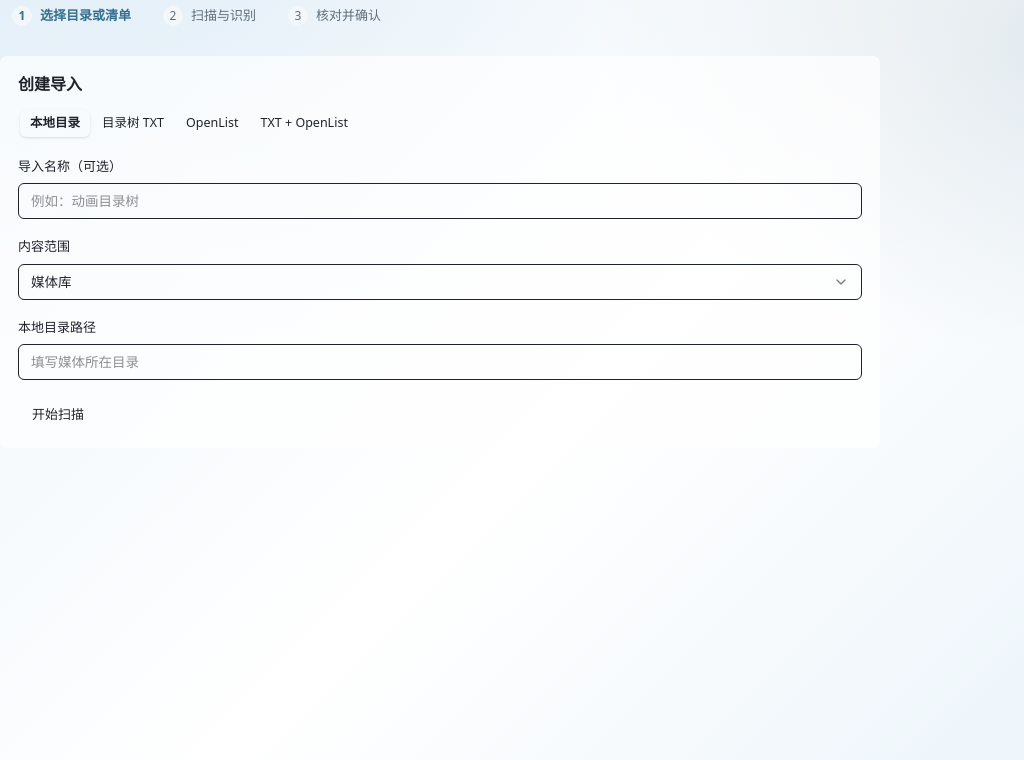
Test case: TXT 路径多解的映射选择（F8） › 第二次仍要求映射时保留最新候选并提示过期，不自动重发
Click the radio button labelled "目录树 TXT".
click(133, 123)  # box [92, 110, 174, 137]
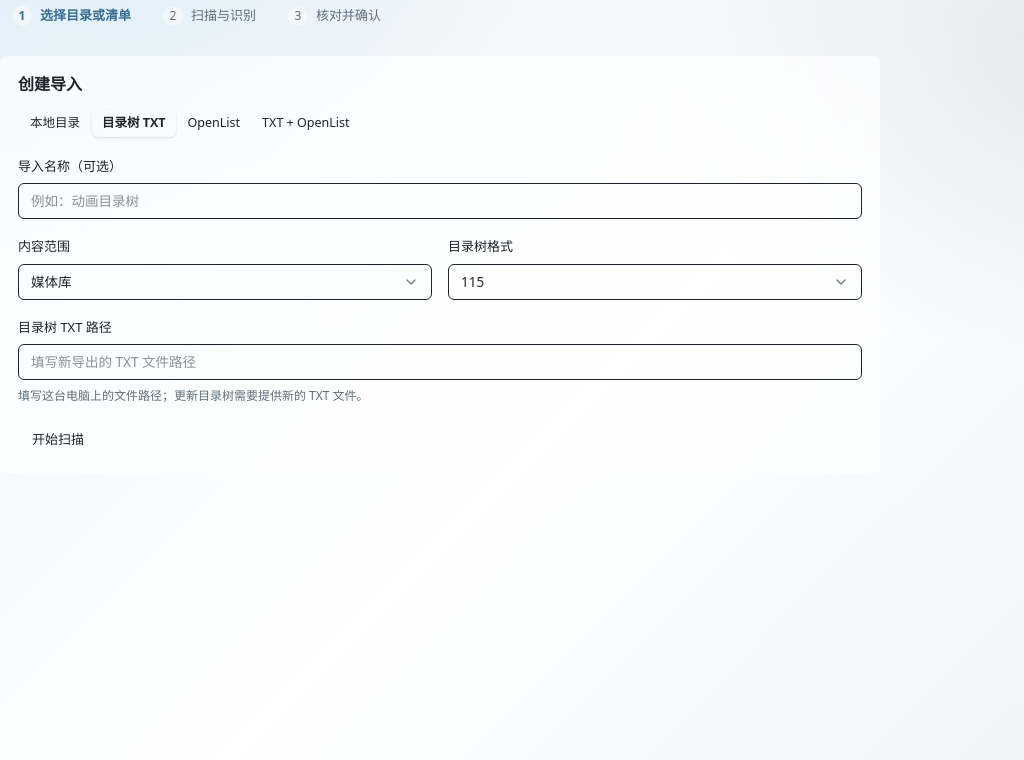
Type "D:\\Trees\\115-anime.txt" into the field labelled "目录树 TXT 路径".
click(440, 362); type("D:\\Trees\\115-anime.txt")  # box [18, 344, 862, 380]
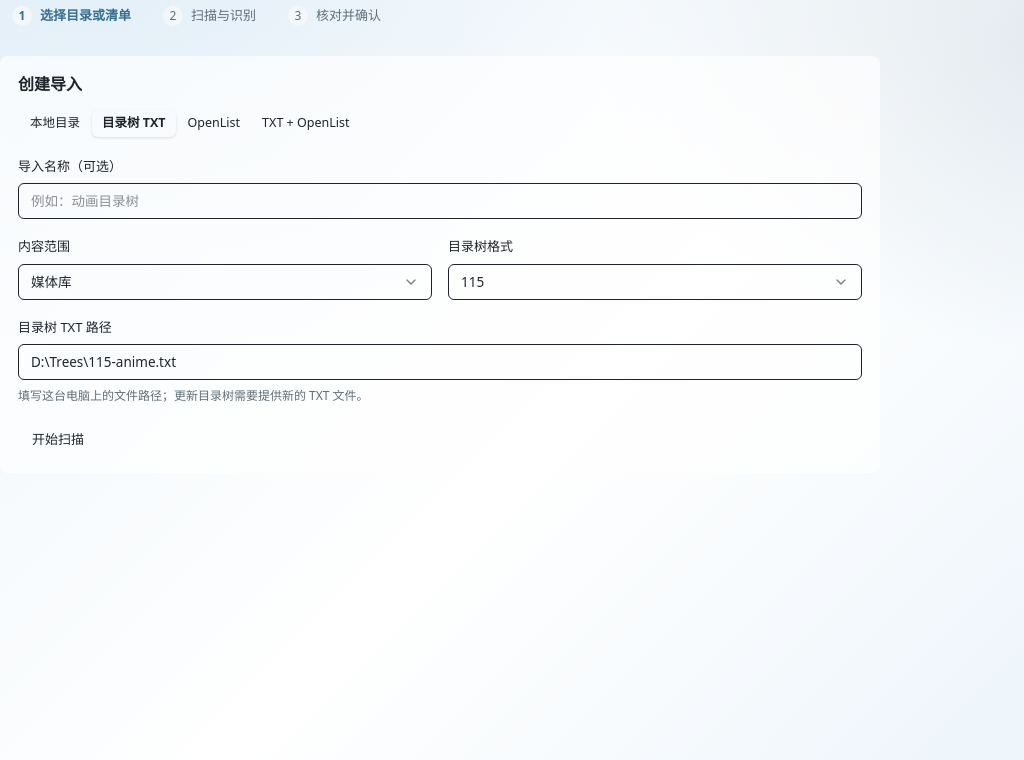
Click the button "开始扫描".
click(58, 439)  # box [18, 421, 98, 457]
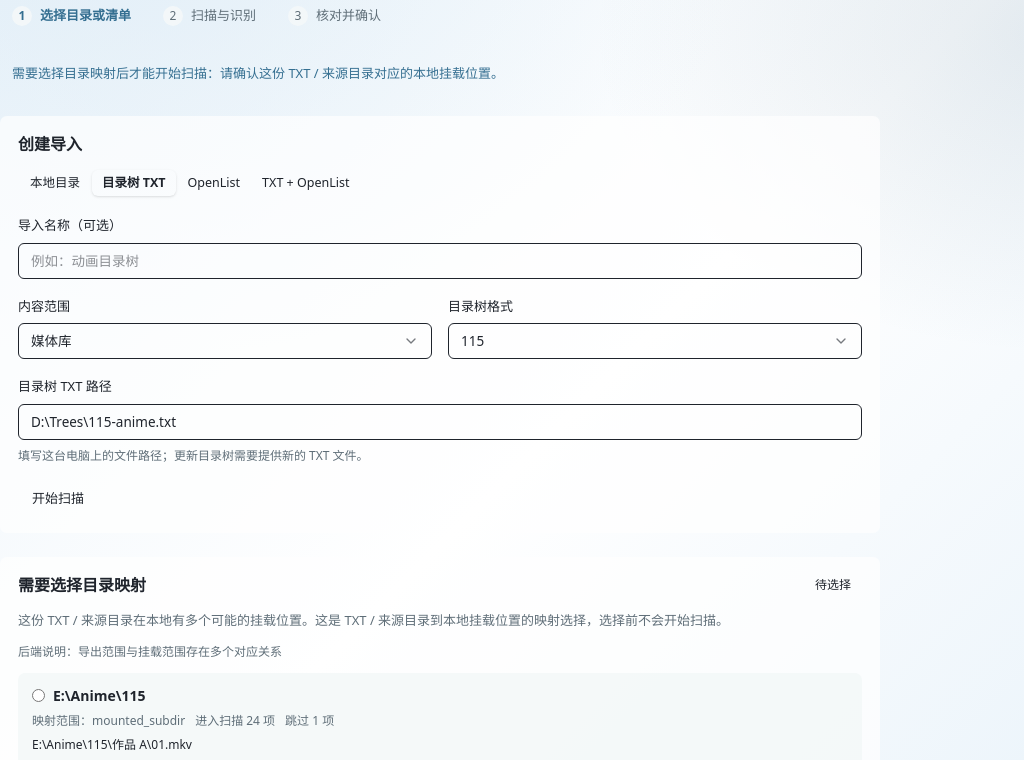
Click the radio button labelled "E:\\Anime\\115".
click(38, 695)  # box [32, 689, 45, 702]
(page scrolled)
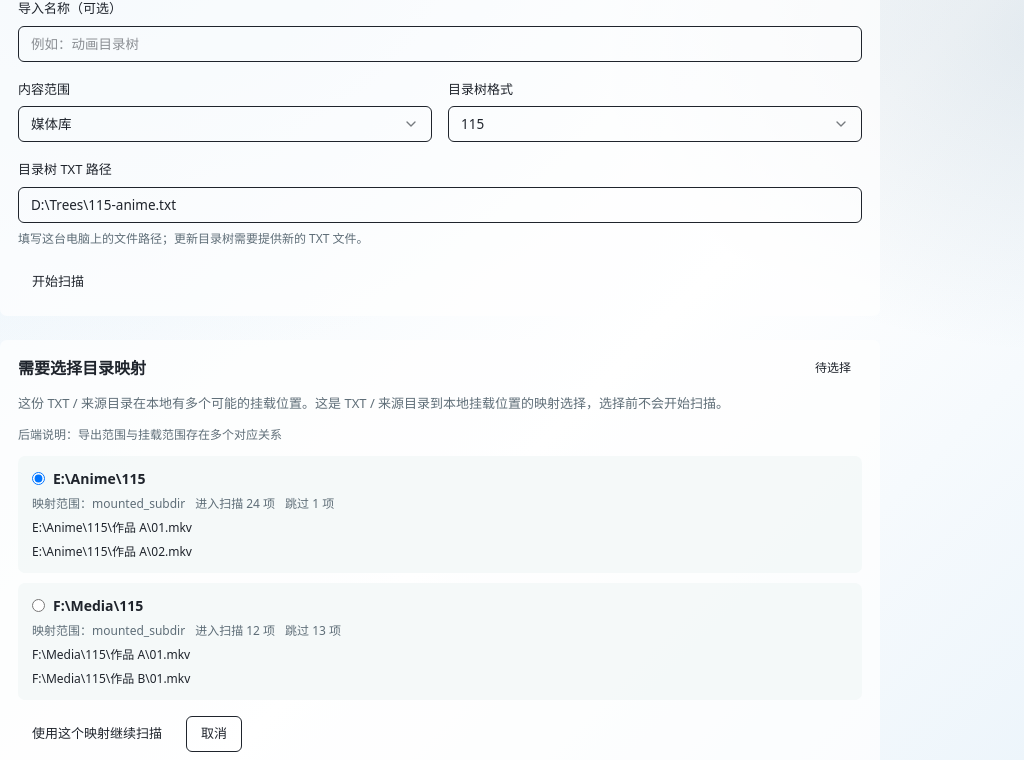
Click the button "使用这个映射继续扫描".
click(97, 734)  # box [18, 716, 176, 752]
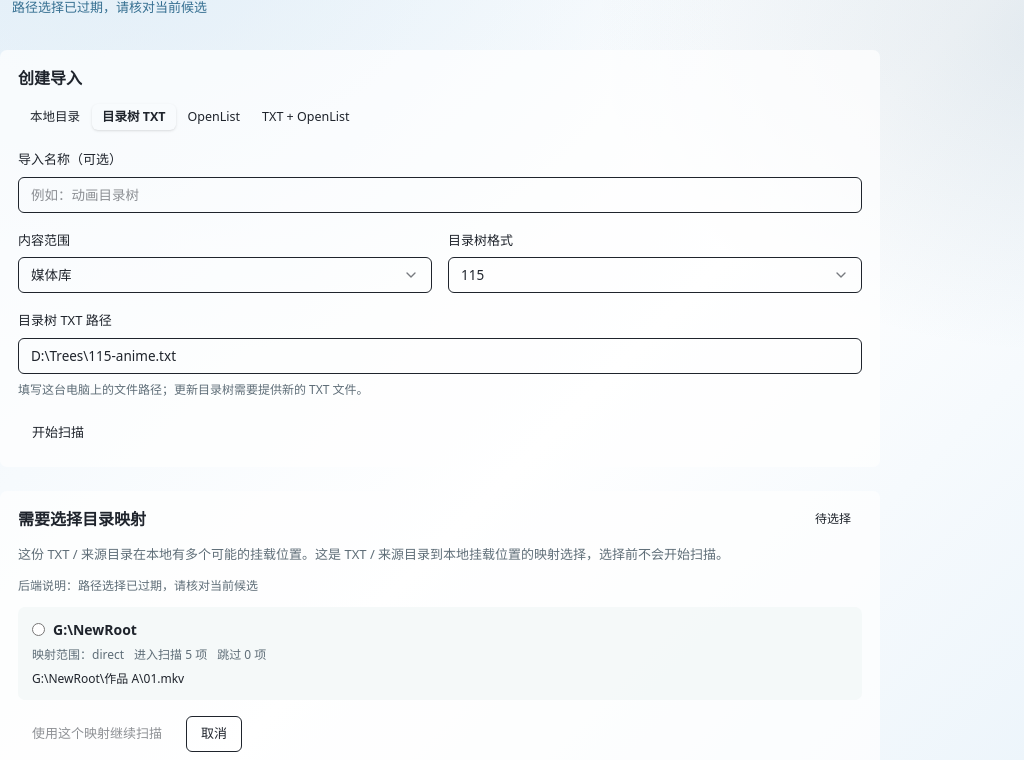
Now the radio button labelled "G:\\NewRoot" is shown, box [32, 623, 45, 636]
Now the message reads "路径选择已过期，请核对当前候选", box [12, 0, 207, 16]
Now the text "E:\\Anime\\115" is gone
